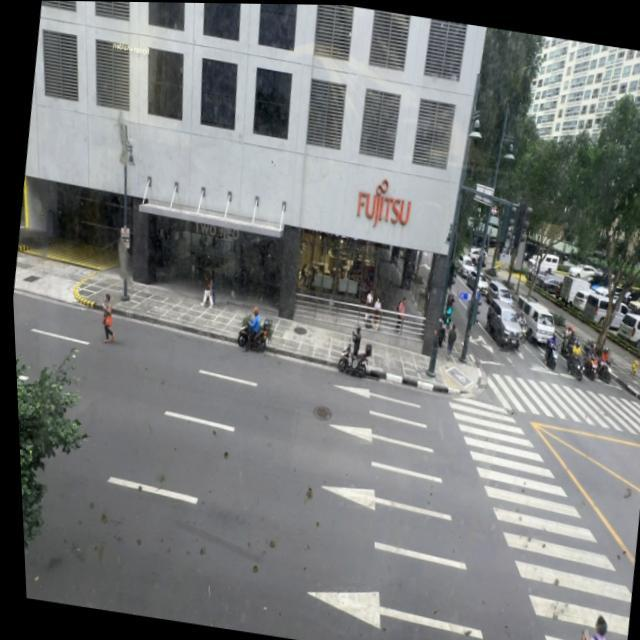jaywalking: (97, 292, 121, 344)
